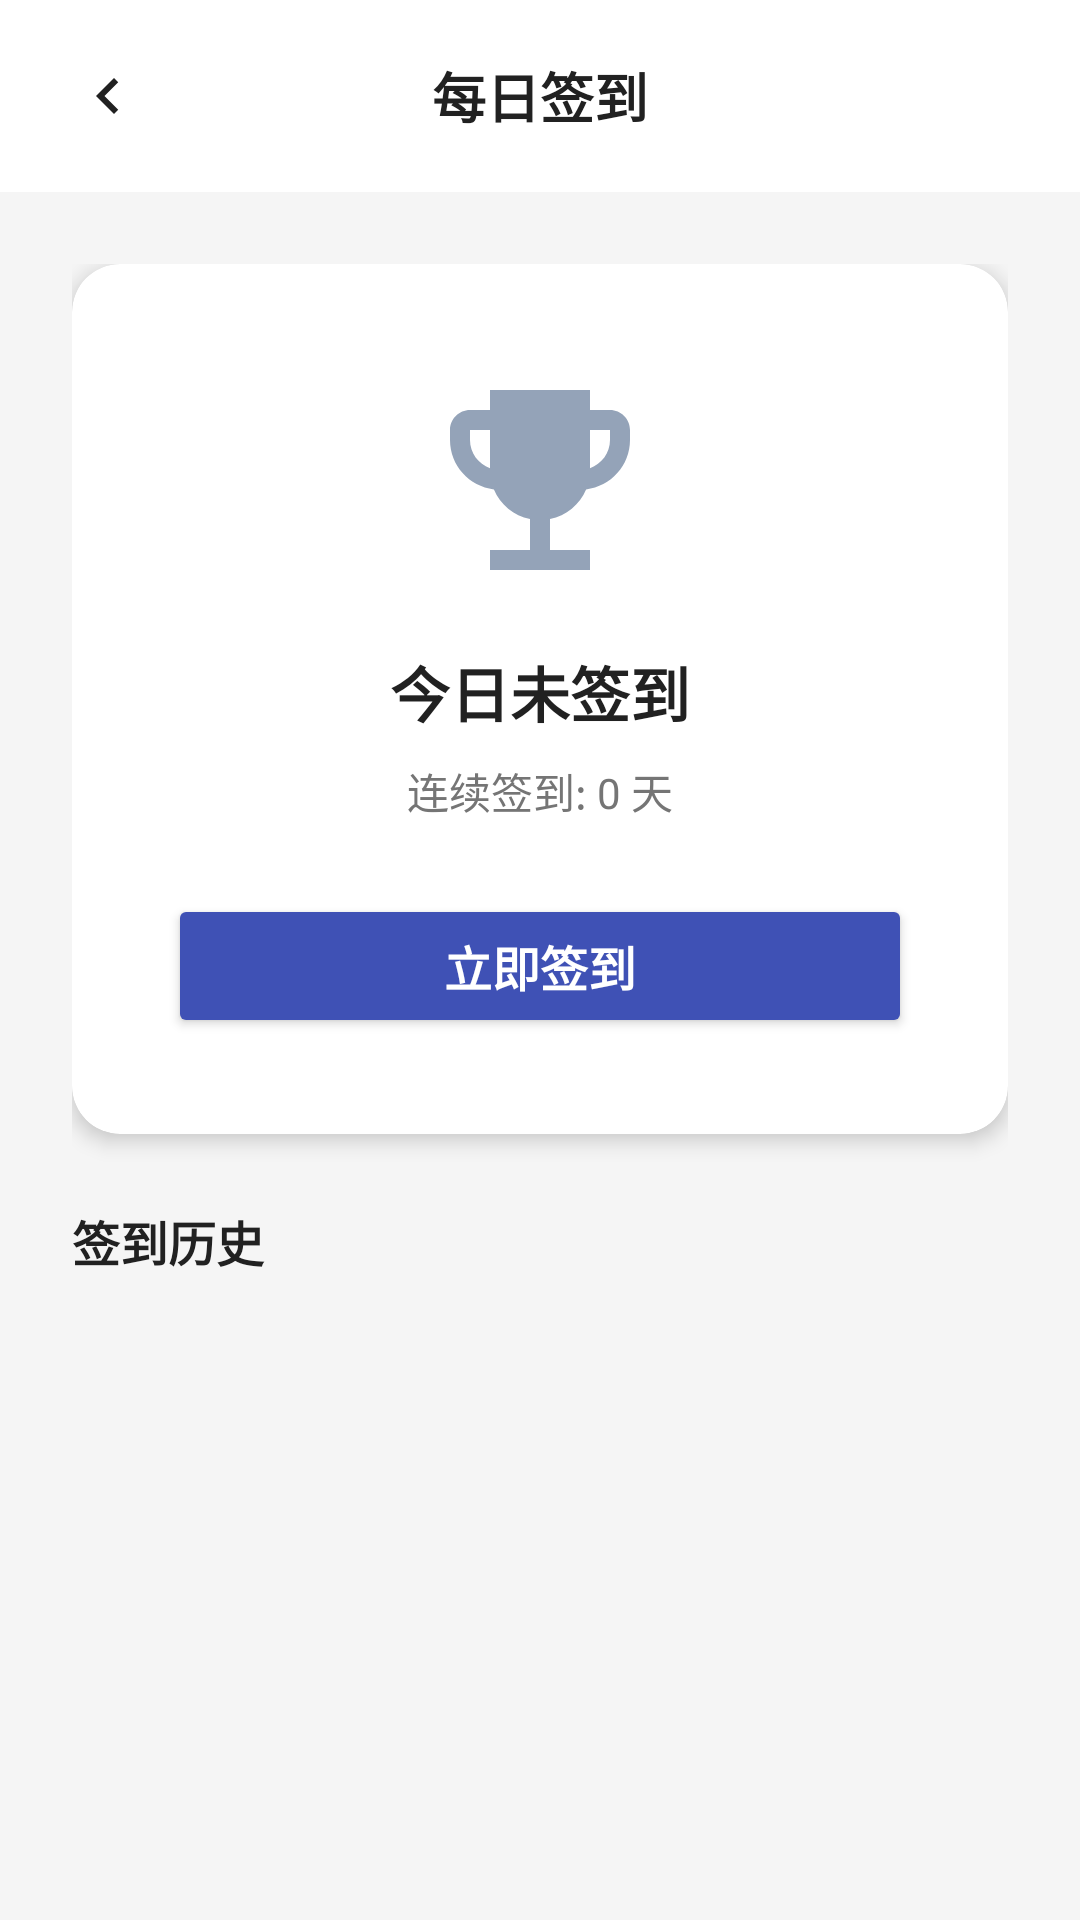

Named icons in this screenshot (1080px x 1920px) and their bounding boxes, (x1, y1, x2, y2):
achievement: (450, 390, 630, 570)
